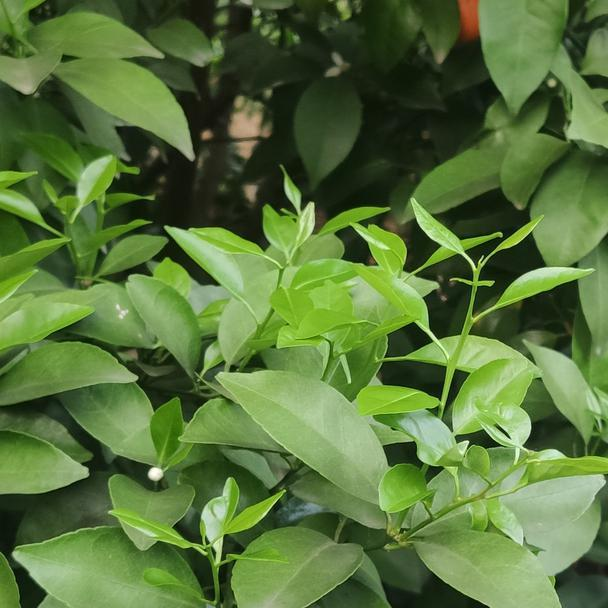shoot: (394, 195, 578, 407), (409, 400, 608, 535), (210, 186, 364, 358), (116, 485, 286, 608)
